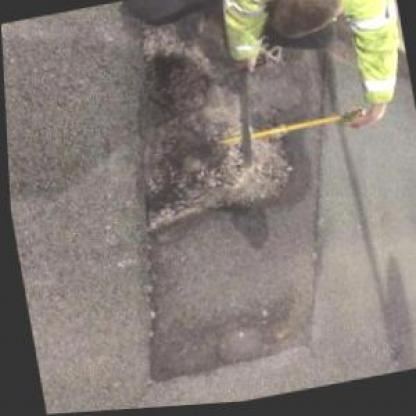pothole: (123, 111, 319, 243)
